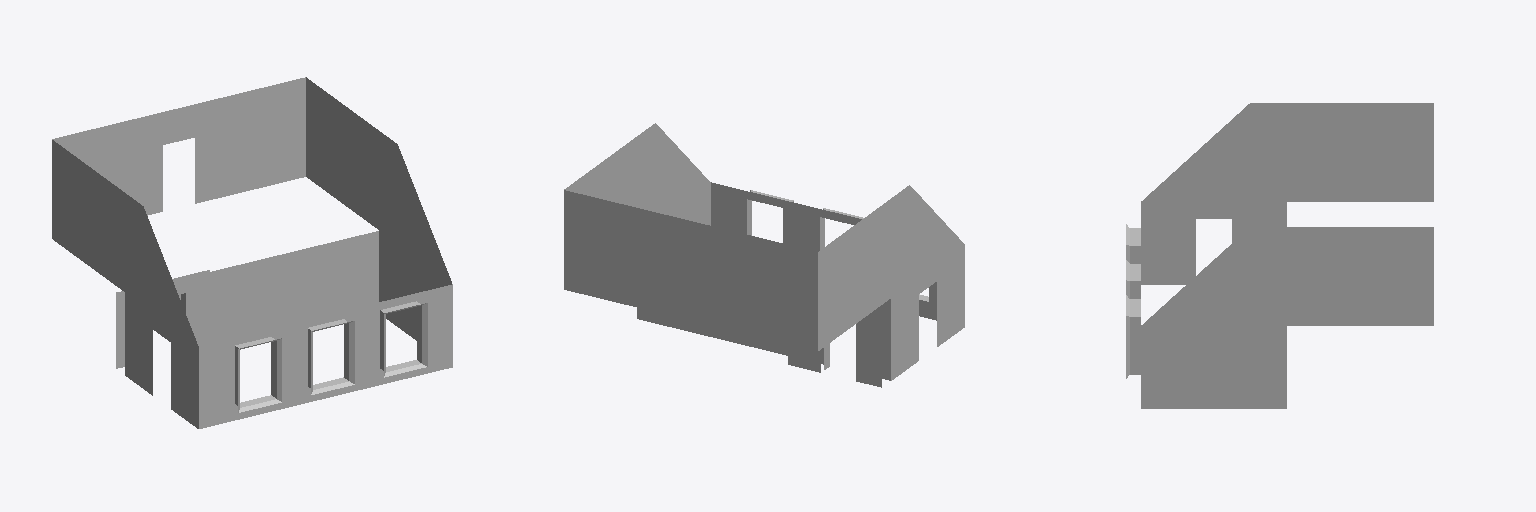
Rendered from Walls.obj.
The picture shows the model from 3 angles: view 1: azimuth 30°, elevation 25°; view 2: azimuth 150°, elevation 25°; view 3: azimuth 270°, elevation 25°; orthographic projection.
Bounding box in the file's own units: 8 × 5.5 × 8.4.